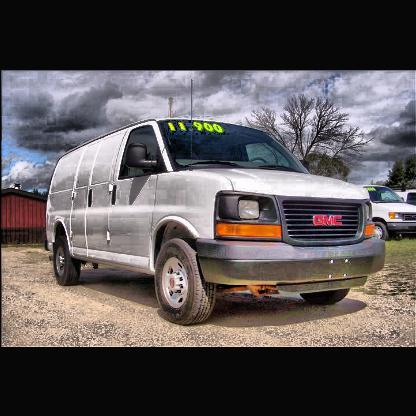GMC Savana Van 2012: (43, 117, 390, 327)
